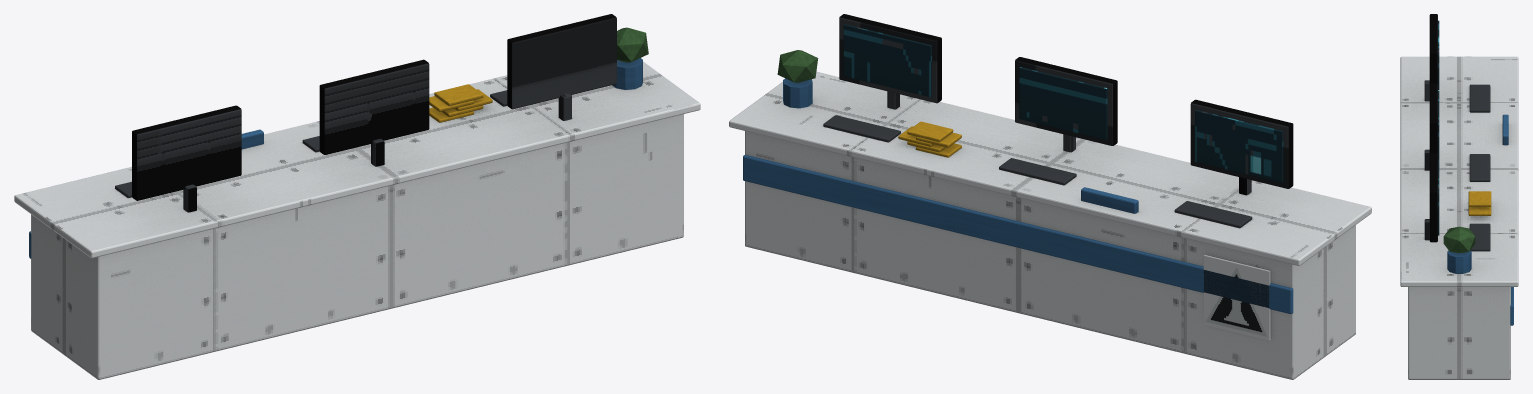
The model's file is base_personnel_desk.glb.
The picture shows the model from 3 angles, left to right: view 1: azimuth 30°, elevation 25°; view 2: azimuth 150°, elevation 25°; view 3: azimuth 270°, elevation 25°; orthographic projection. The views are drawn at different scales.
Parts seen in each view (by area): view 1: base_personnel_desk; view 2: base_personnel_desk; view 3: base_personnel_desk.
Boxes of the visible parts, box(x1,y1,x2,y2) form: base_personnel_desk: box(14, 14, 700, 379); base_personnel_desk: box(729, 14, 1371, 379); base_personnel_desk: box(1400, 14, 1518, 379).
Size of the model in its own units: 5.2 by 1.82 by 1.15.
9 materials, 9 textured.
